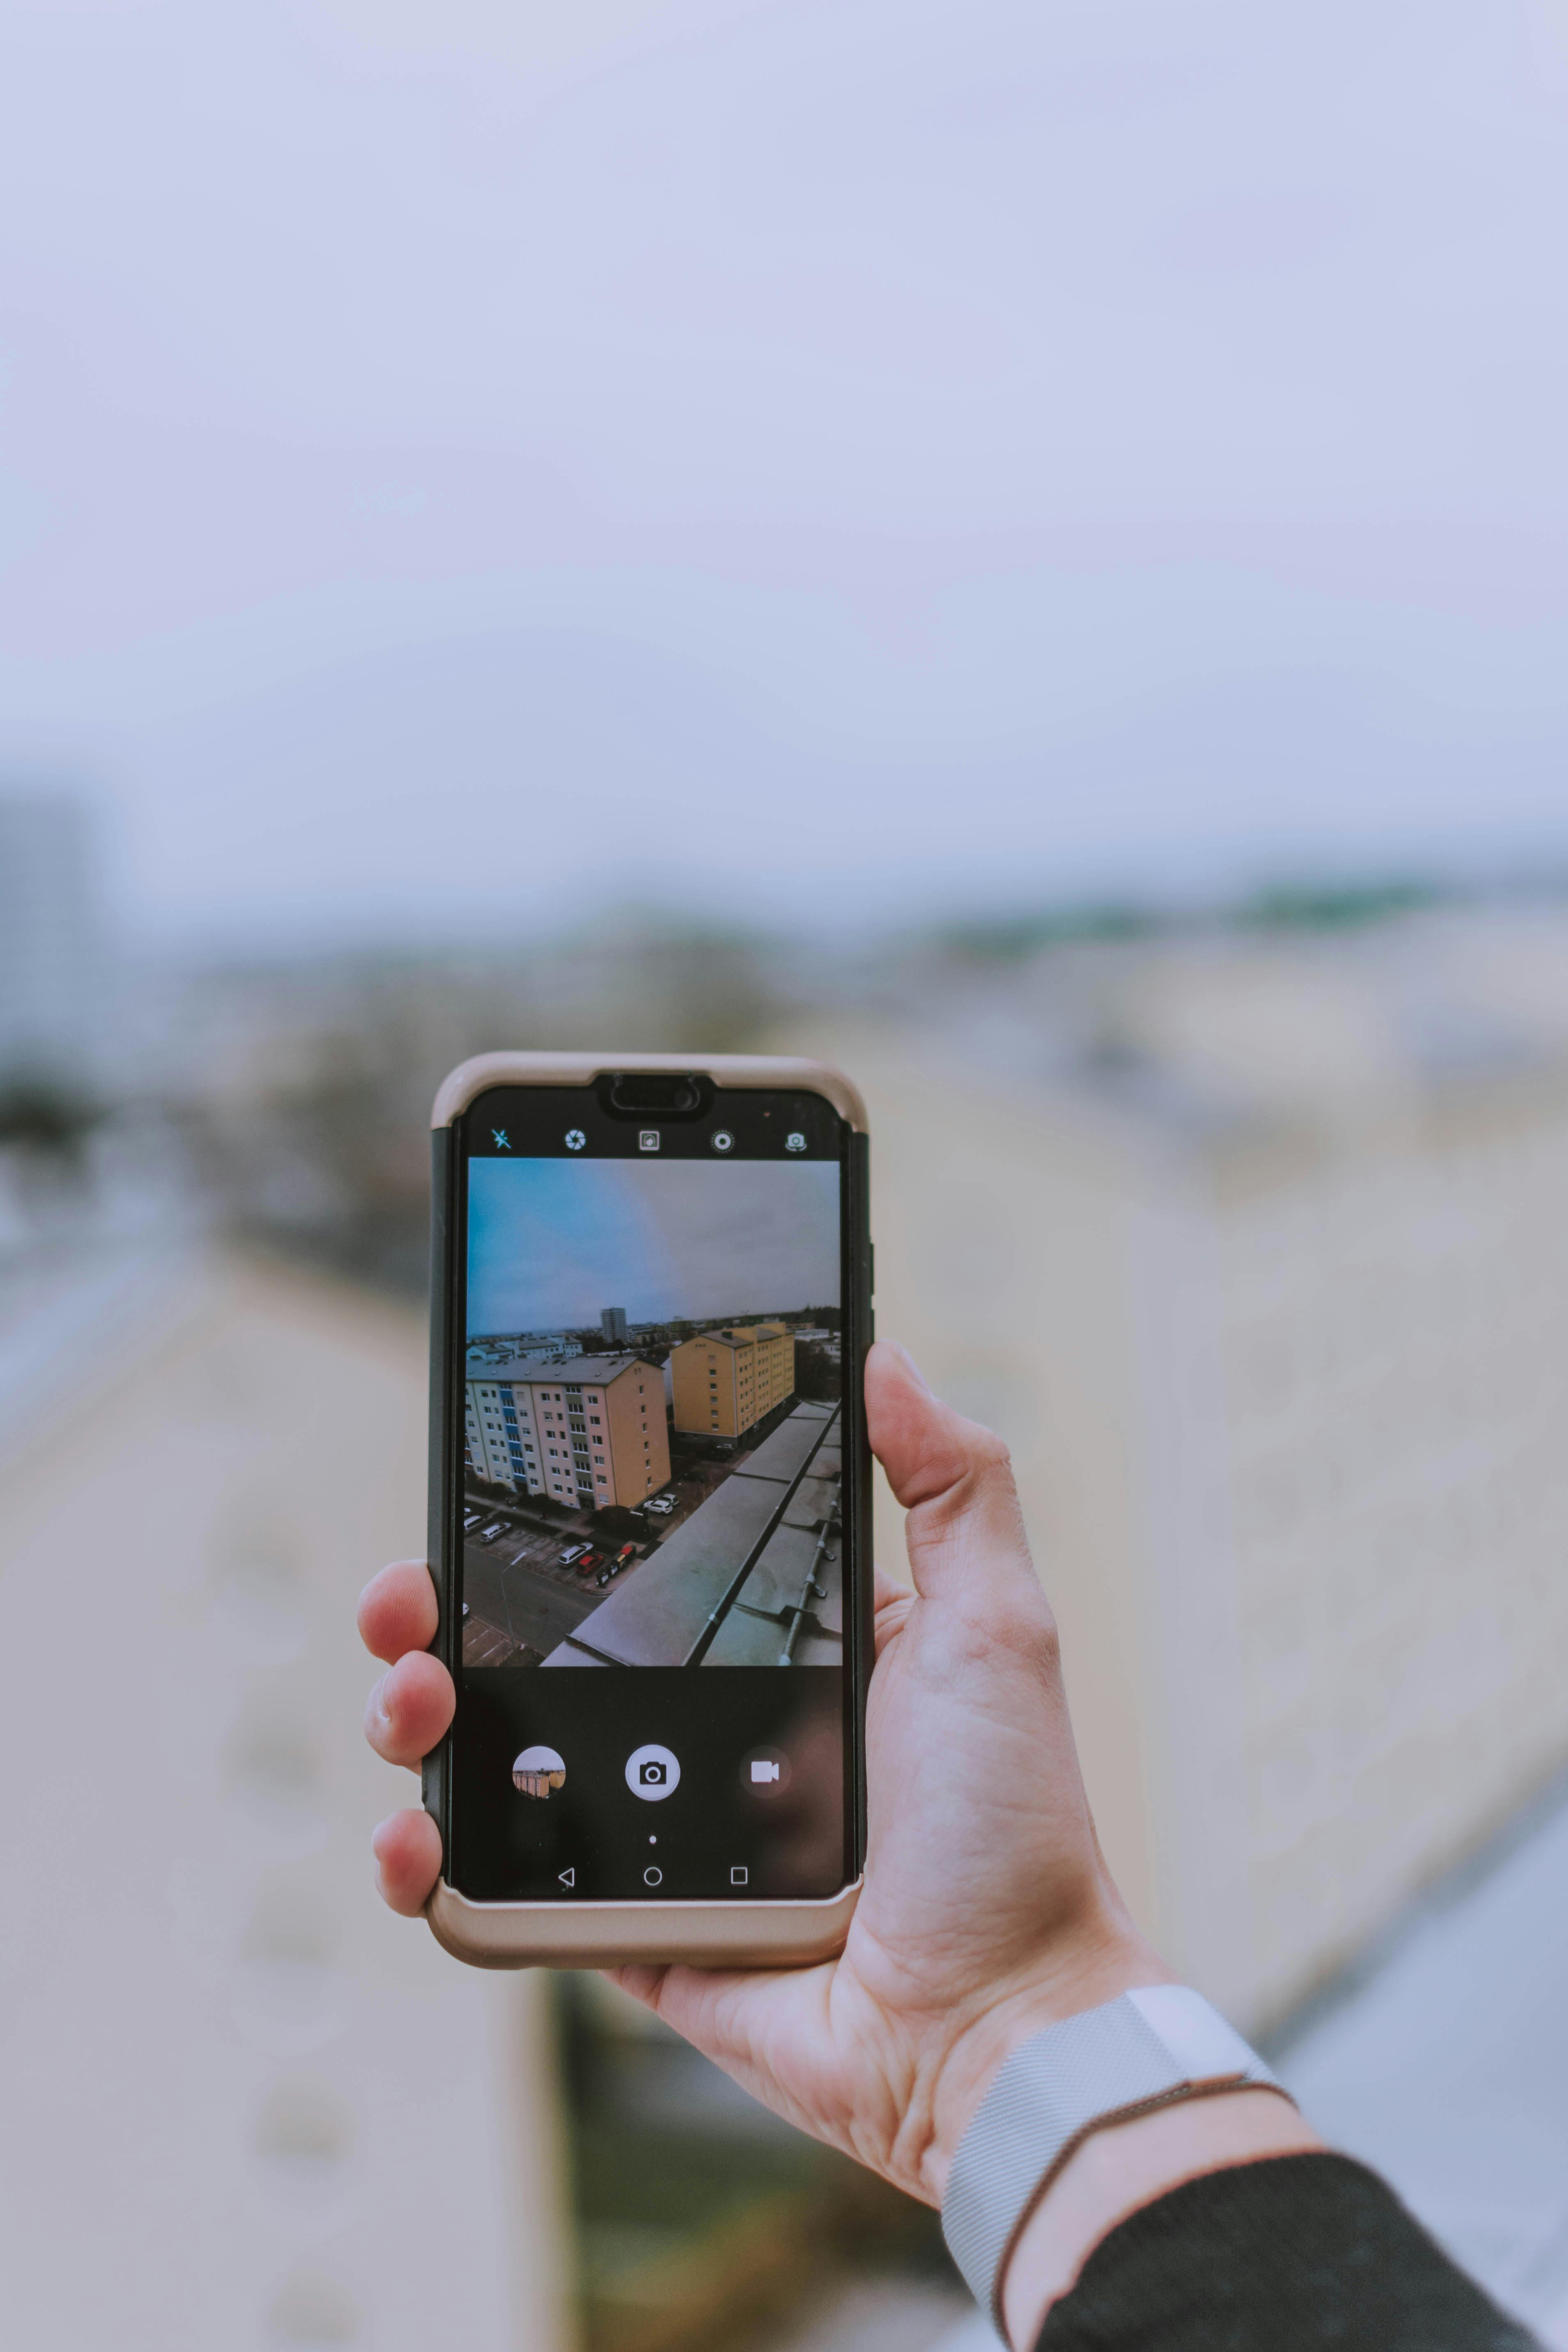p6: (404, 1020, 894, 2012)
